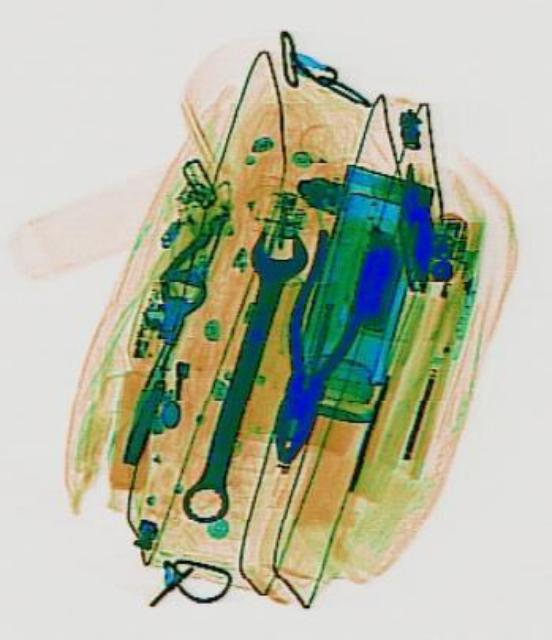Pliers: (246, 224, 382, 472)
Wrench: (169, 218, 311, 530)
